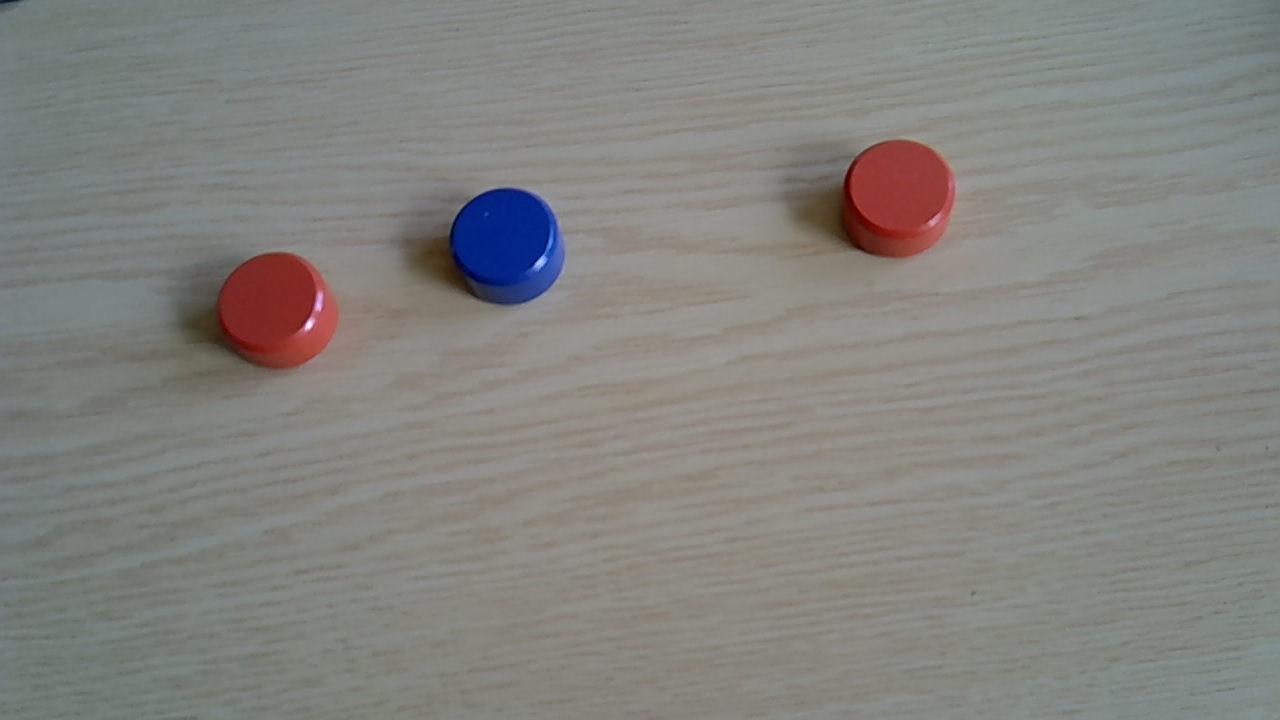WerkStueck: (214, 251, 343, 370), (447, 186, 568, 307), (839, 138, 957, 257)
